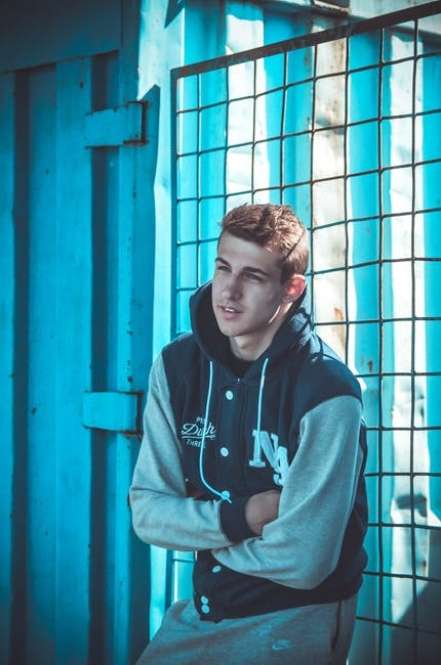face: (212, 234, 275, 336)
